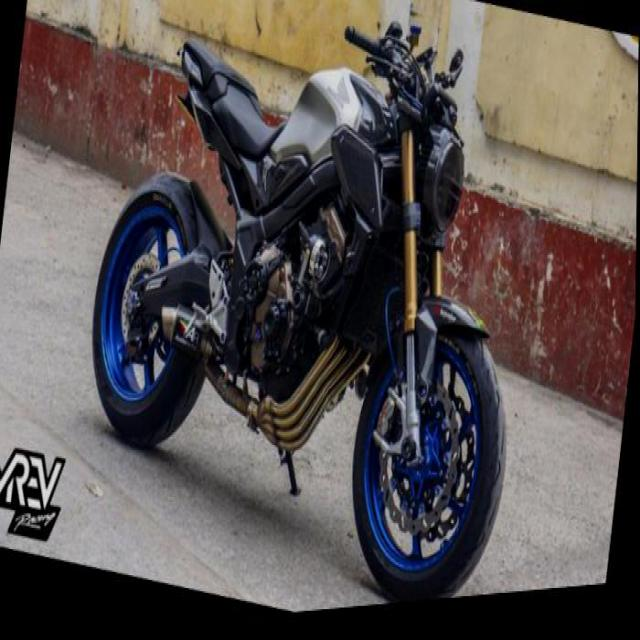CB650R: (69, 0, 548, 634)
